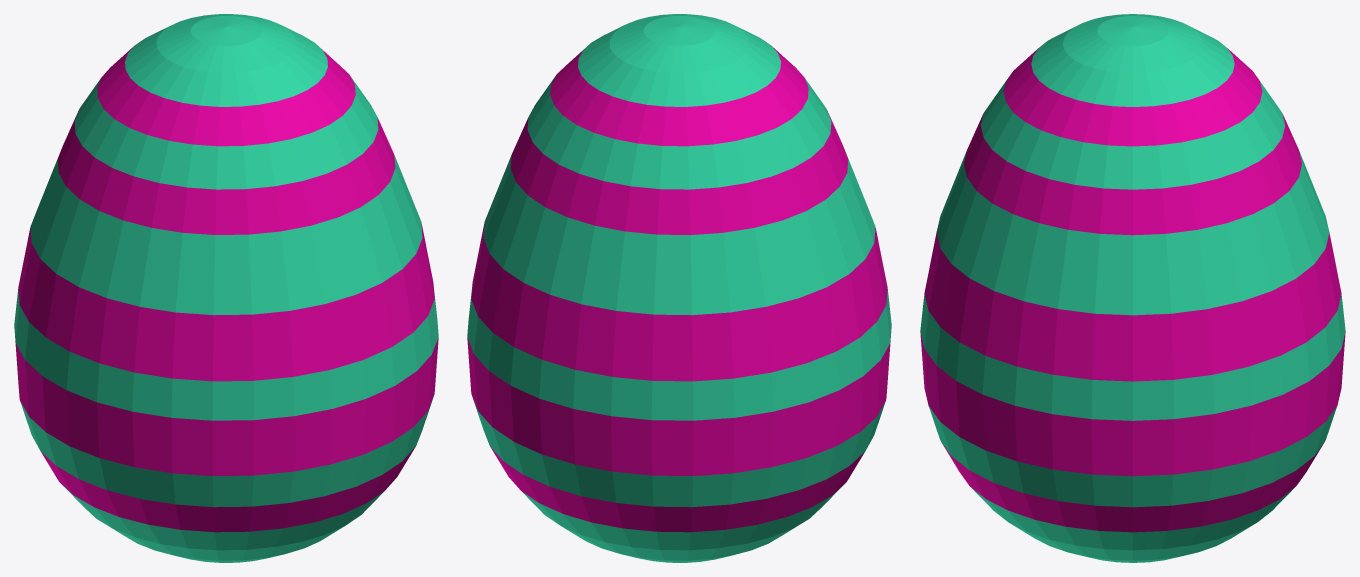
Rendered from easter_egg.fbx.
3 renders of one model, left to right at view 1: azimuth 30°, elevation 25°; view 2: azimuth 150°, elevation 25°; view 3: azimuth 270°, elevation 25°, orthographic.
Parts seen in each view (by area): view 1: Sphere; view 2: Sphere; view 3: Sphere.
Boxes of the visible parts, x1,y1,x2,y2 form: Sphere: (14, 14, 438, 562); Sphere: (467, 14, 891, 562); Sphere: (920, 14, 1345, 562).
Bounding box in the file's own units: 200 × 268 × 200.
